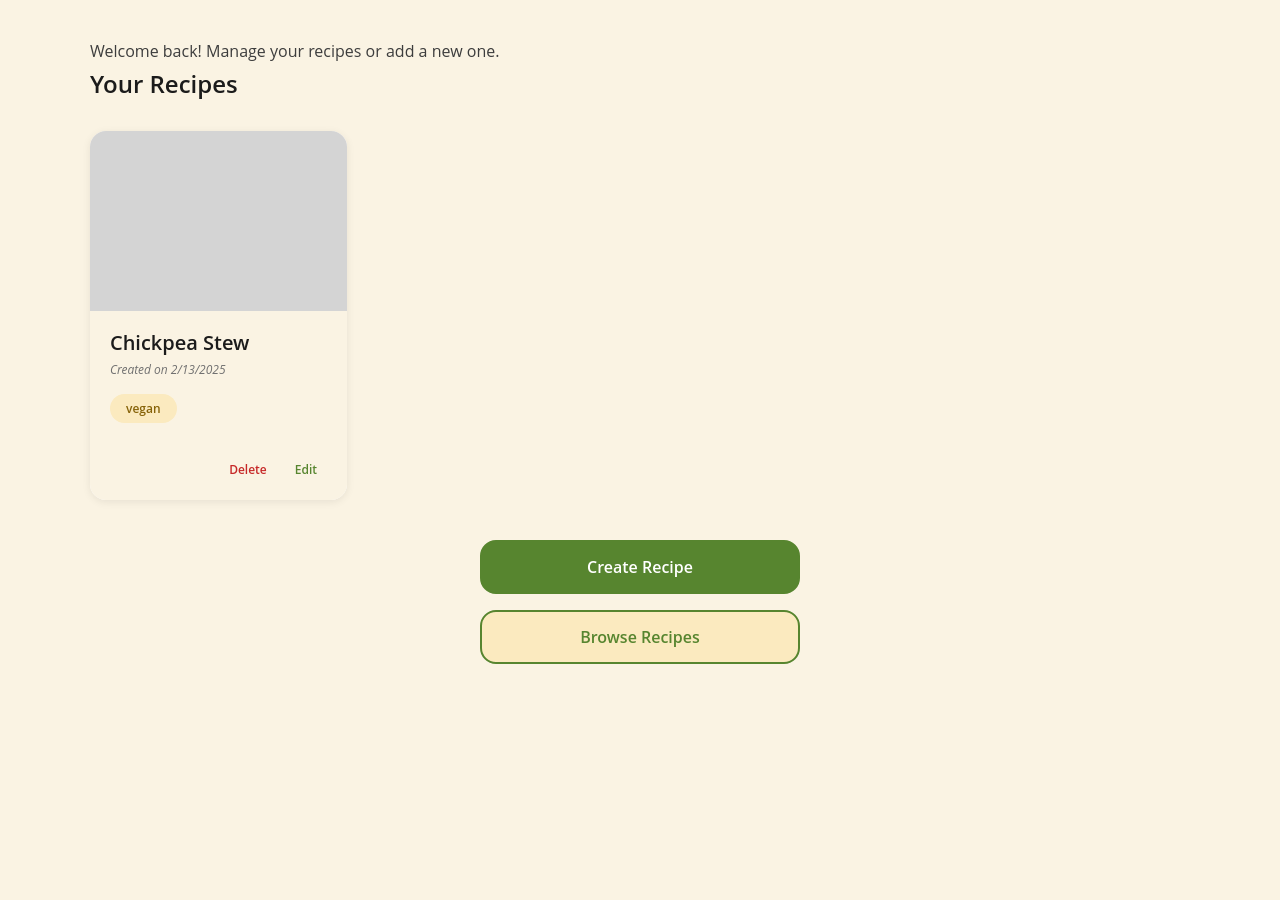
Test: recipe CRUD components › removes a recipe from the dashboard after deletion
Expected: the heading "Chickpea Stew" is shown, left=110, top=329, right=249, bottom=356
Step 1. Click the button "Delete" → (248, 469), box left=219, top=455, right=277, bottom=484
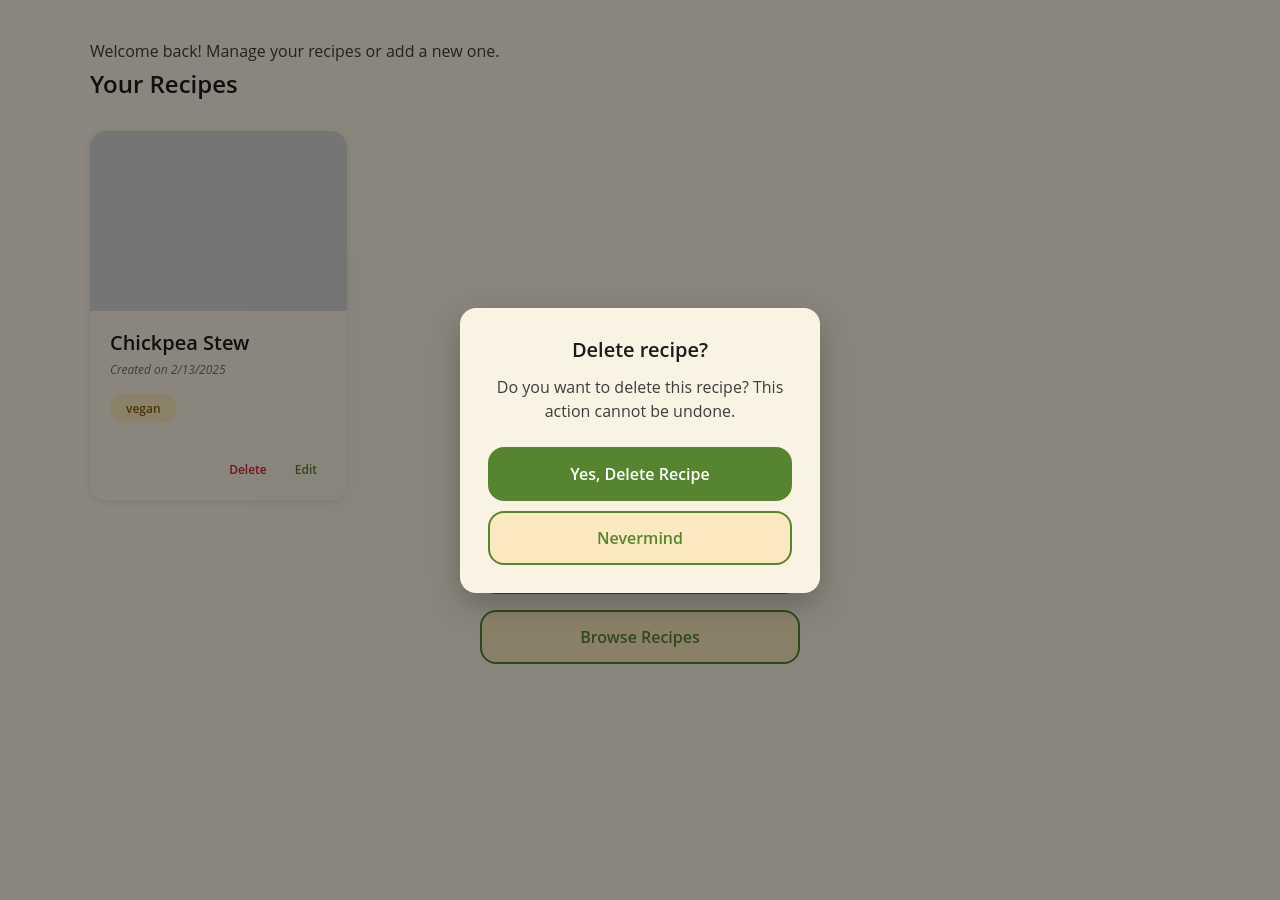
Step 2. Click the button "Yes, Delete Recipe" → (640, 474), box left=488, top=446, right=792, bottom=500
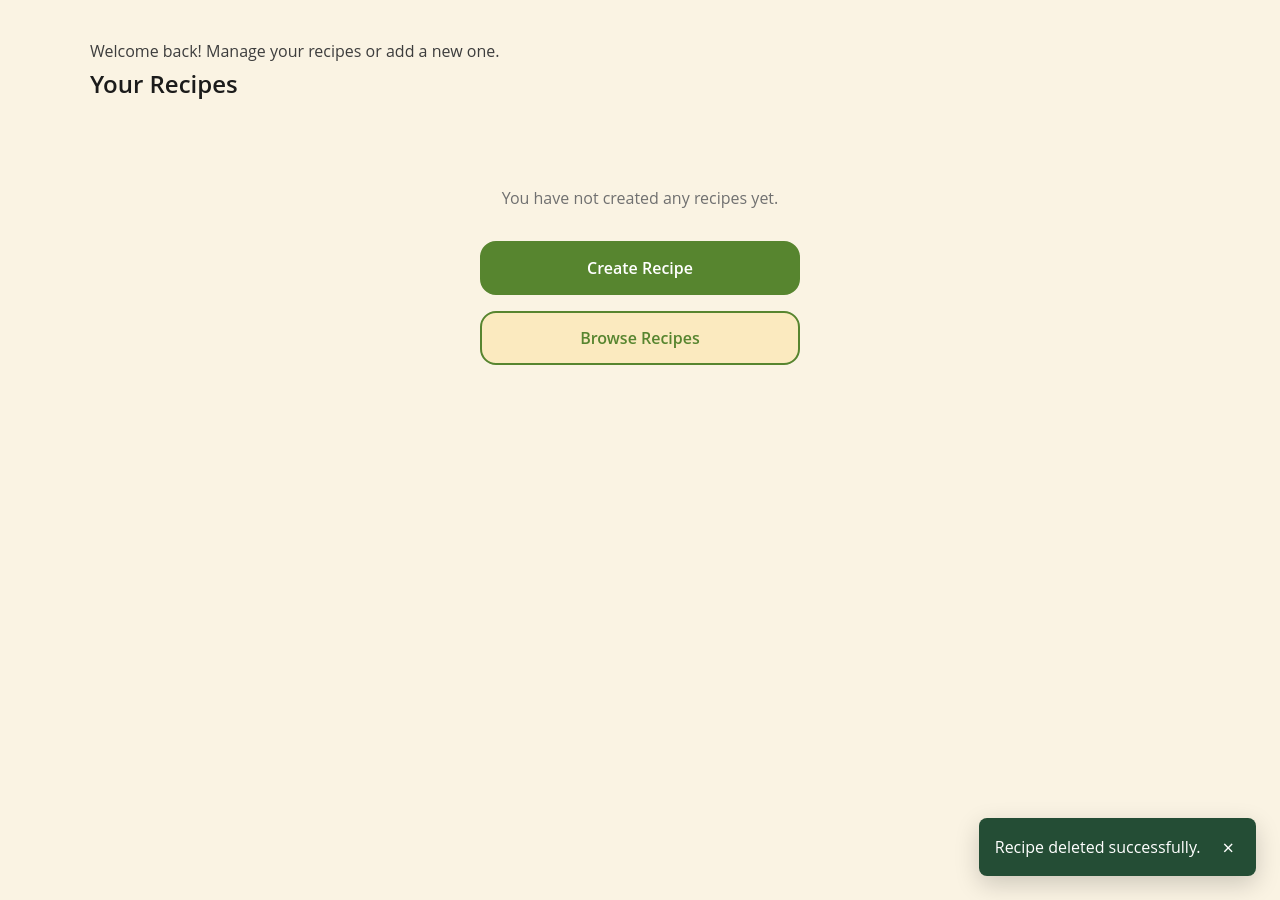
Now the heading "Chickpea Stew" is gone
